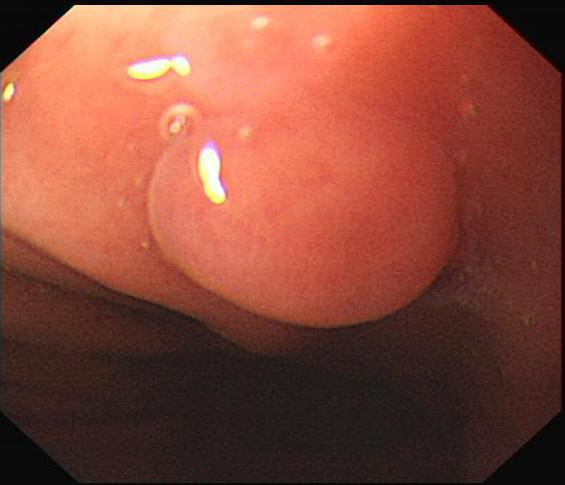Polyp: (141, 88, 465, 330)
